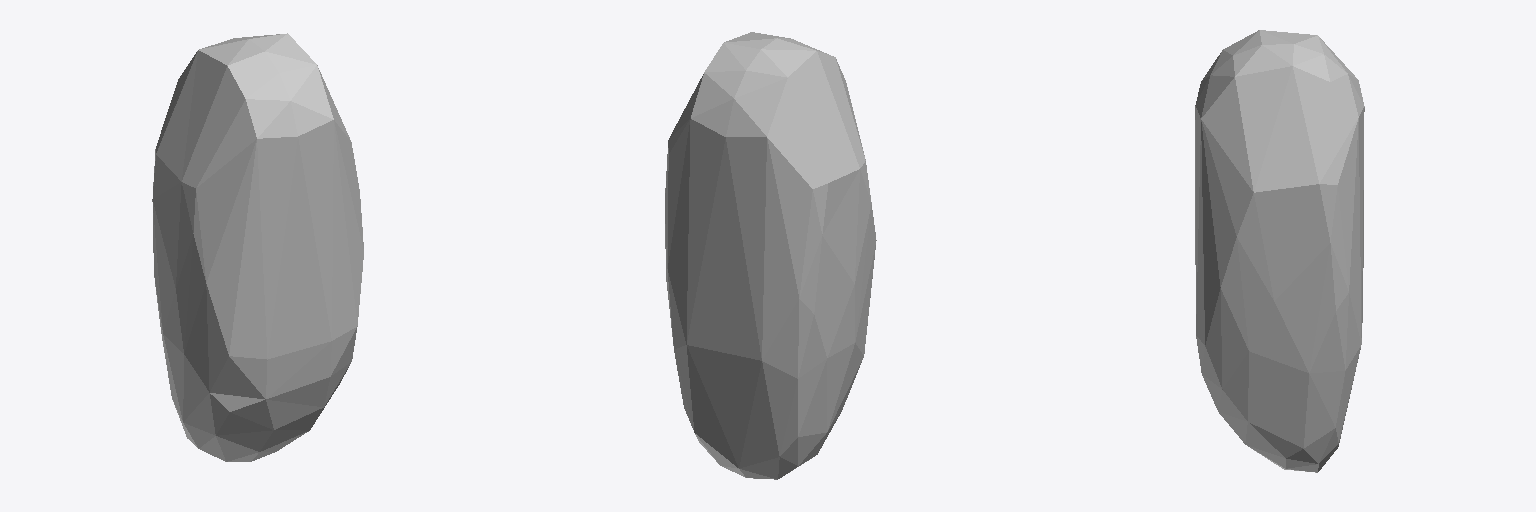
Rendered from thumb_dist_col.obj.
The picture shows the model from 3 angles: view 1: azimuth 30°, elevation 25°; view 2: azimuth 150°, elevation 25°; view 3: azimuth 270°, elevation 25°; orthographic projection.
Bounding box in the file's own units: 0.0227 × 0.0551 × 0.0199.